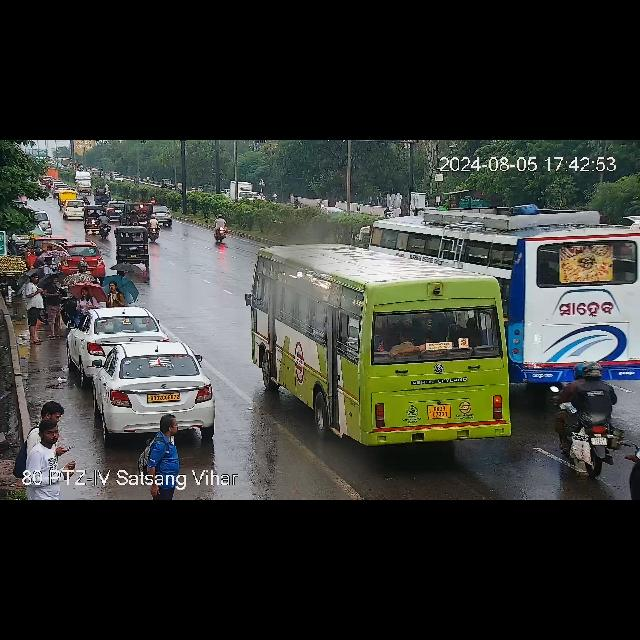bus: (251, 244, 519, 446), (371, 209, 640, 356)
car: (90, 341, 222, 434), (72, 306, 162, 366), (52, 240, 108, 276), (117, 228, 155, 262), (118, 202, 156, 225), (150, 205, 176, 227), (60, 200, 86, 220), (91, 182, 111, 205), (59, 191, 80, 203), (160, 177, 172, 191)
motorcycle: (551, 367, 619, 471), (82, 209, 110, 237), (209, 214, 231, 242)
person: (138, 410, 192, 500), (19, 398, 69, 492), (20, 271, 48, 339), (106, 280, 124, 308)
truck: (228, 179, 256, 201)
